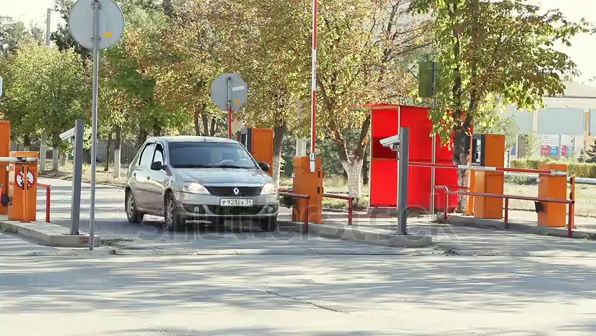licenseplate: (220, 195, 256, 213)
